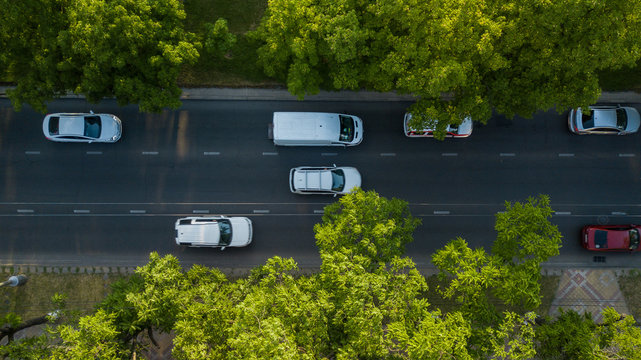car: (274, 112, 361, 147), (174, 217, 251, 250), (565, 104, 639, 136), (47, 113, 121, 144), (581, 225, 641, 259), (290, 167, 362, 194), (401, 114, 474, 140)
